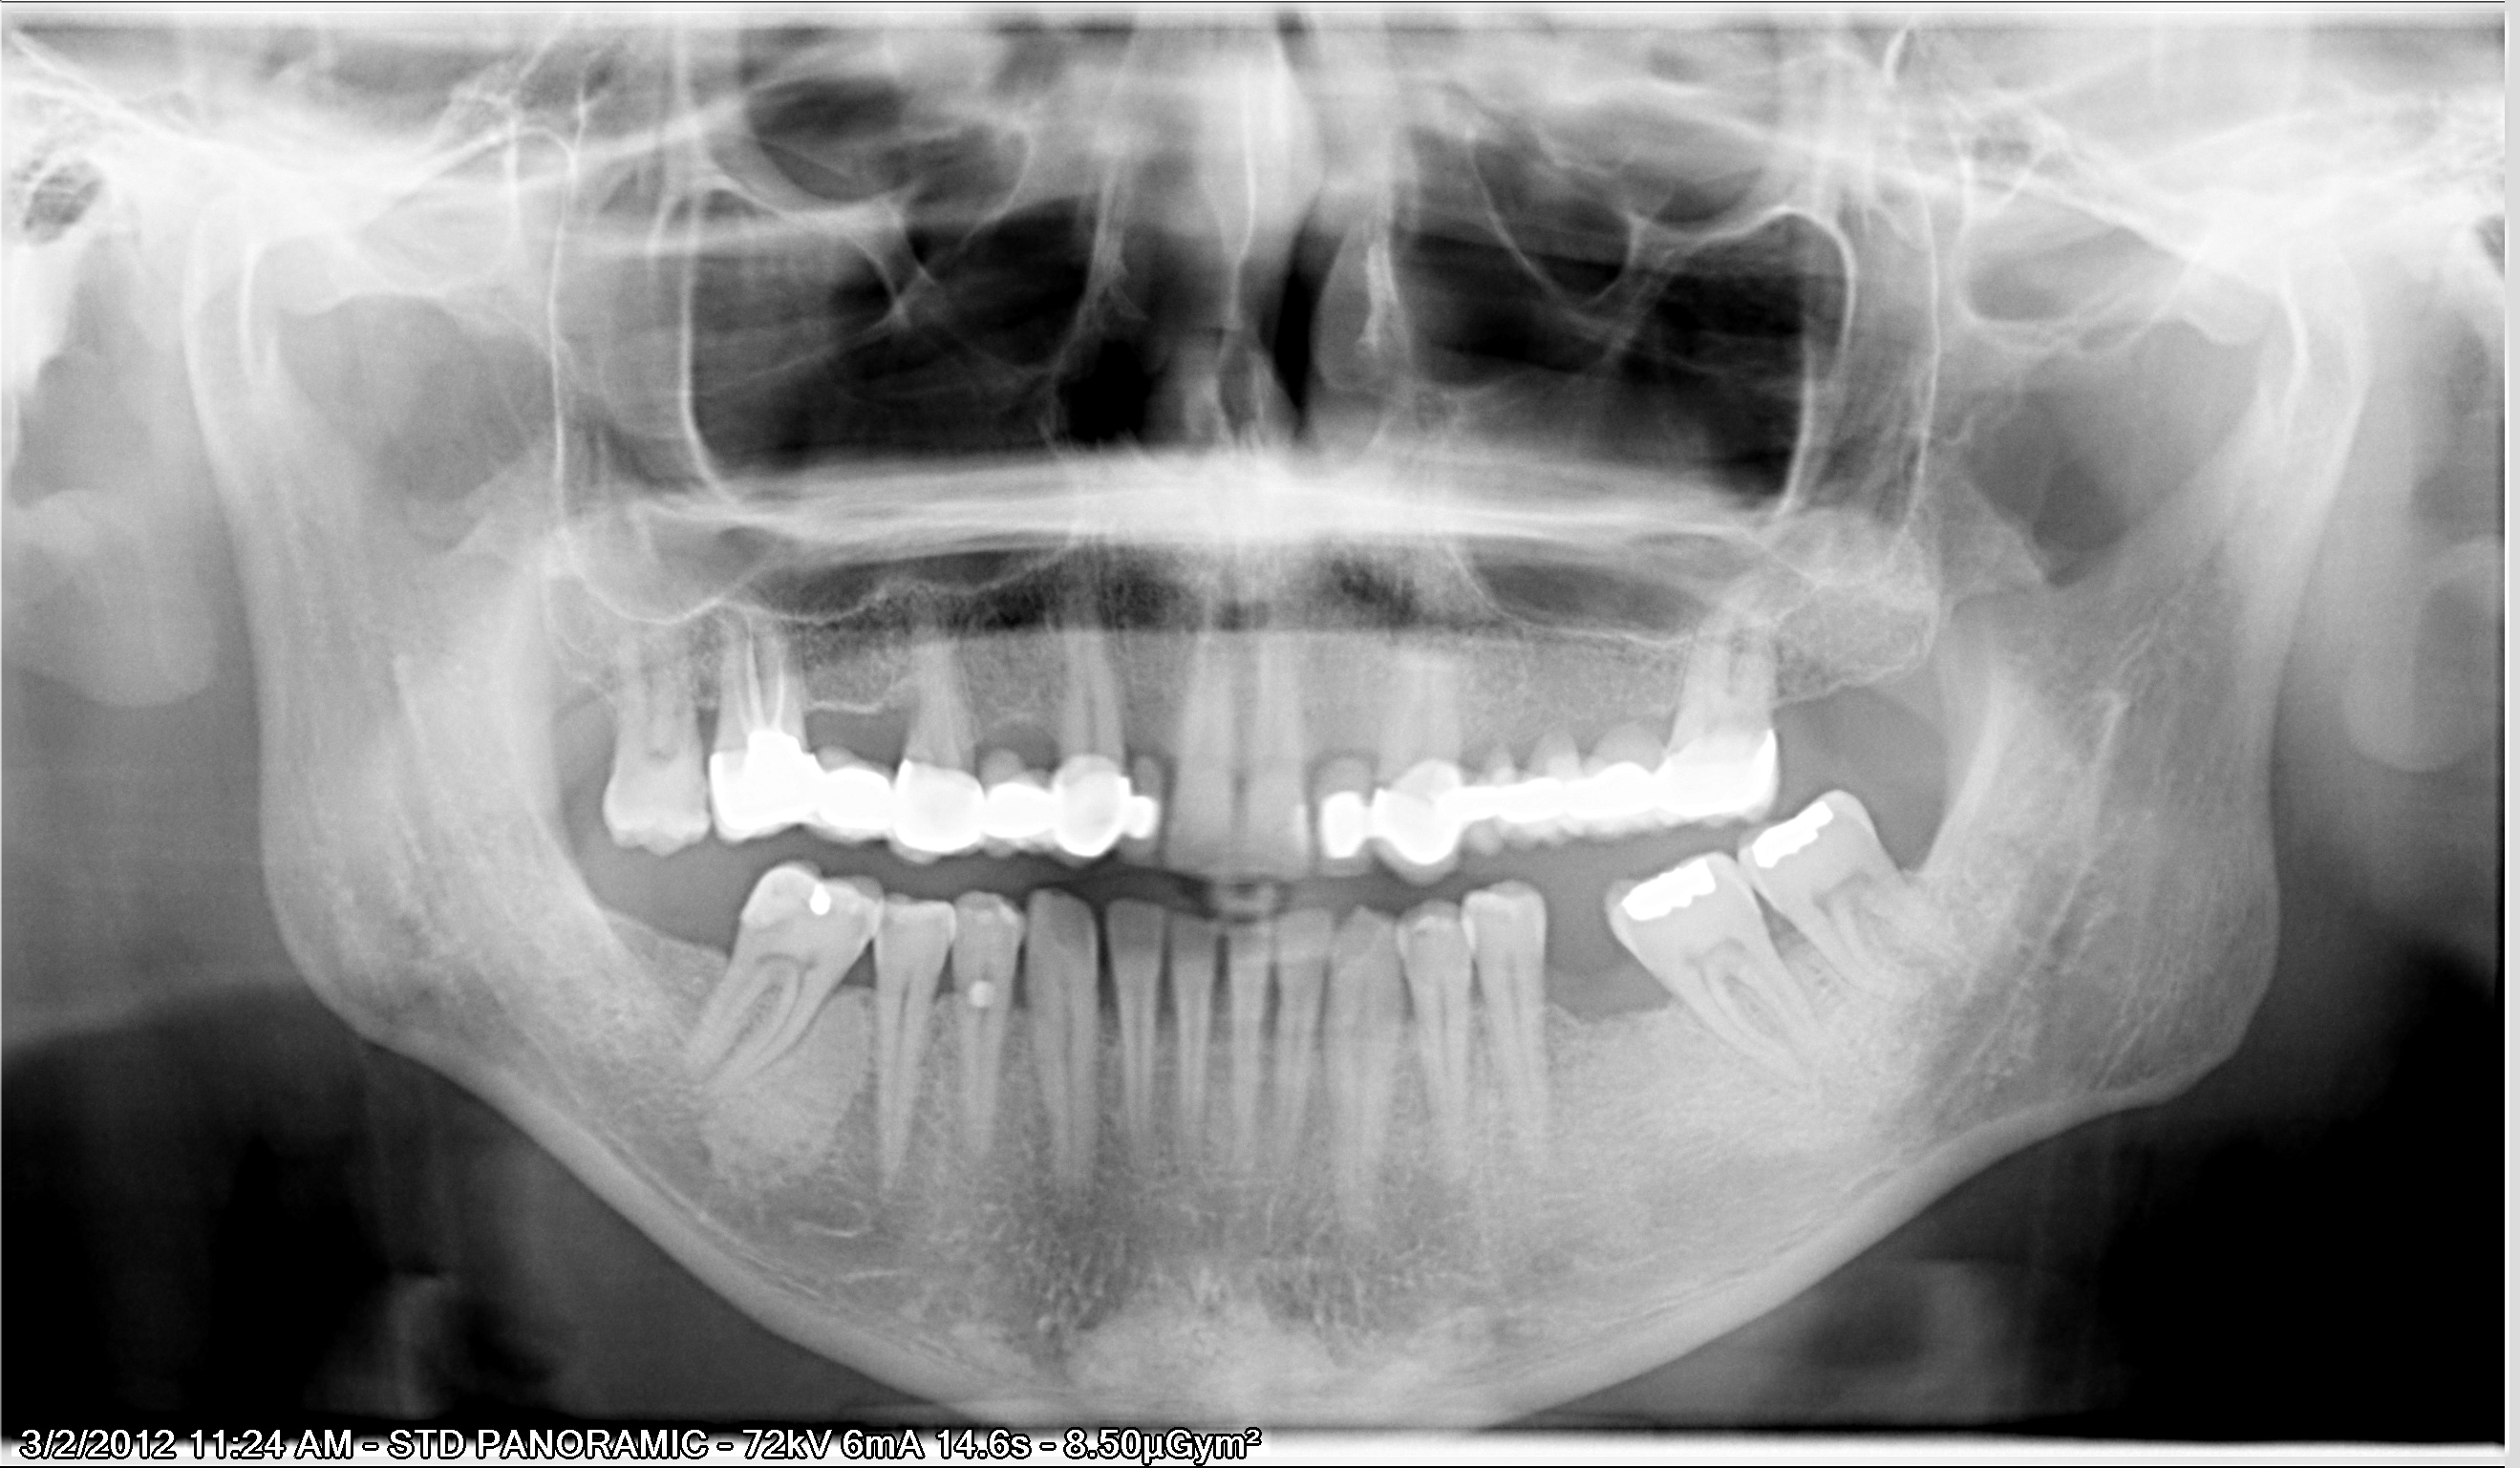CAR: (841, 893, 881, 947), (872, 902, 909, 949)
END: (723, 613, 806, 748)
OBT: (685, 736, 1167, 876), (1302, 750, 1777, 870)
PRR: (1611, 853, 1730, 924), (1748, 795, 1837, 870), (963, 966, 1012, 1024), (793, 872, 844, 923)
